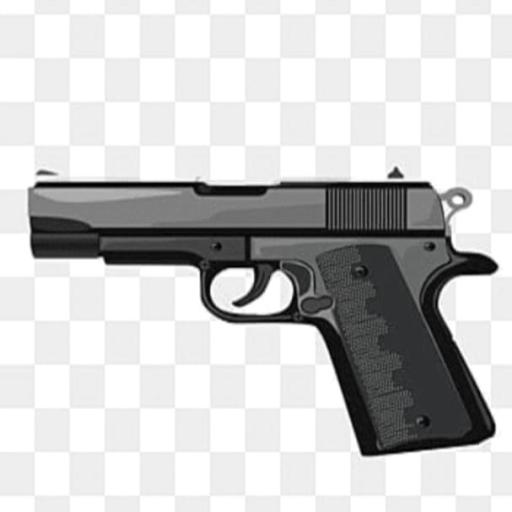Gun: (30, 168, 496, 453)
